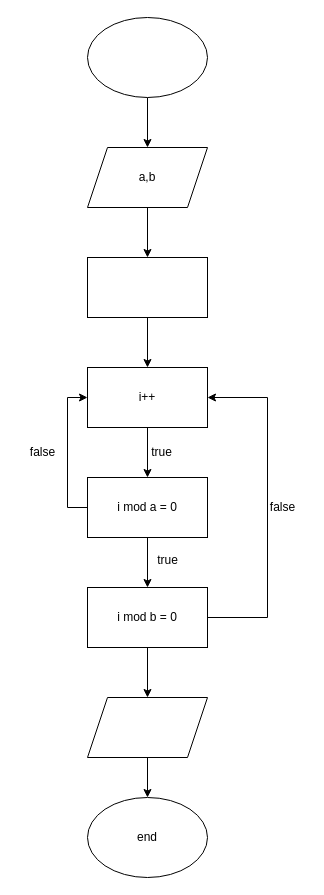
Image size: 324x895. Some labels were removed from this diagram. The centre of each missing label's shape, as x and y in pixels:
"i=a" belongs at pixel 147 287.
"out put i" belongs at pixel 147 727.
"start" belongs at pixel 147 57.
